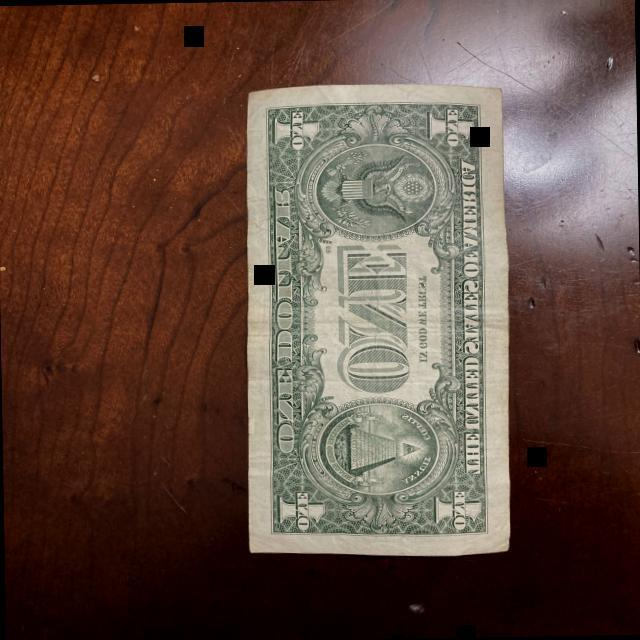one: (239, 80, 512, 560)
